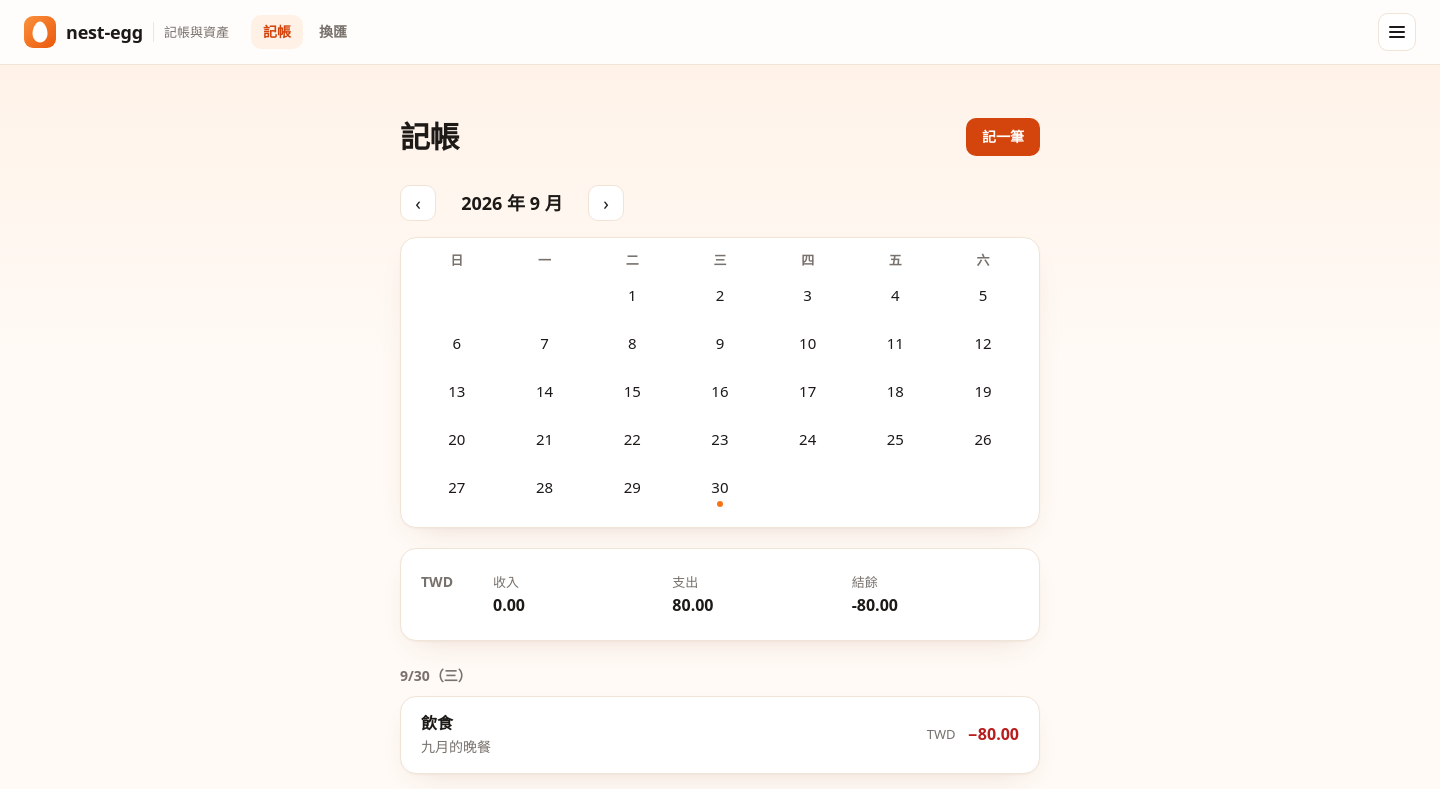
opens the month in the URL and can go forward to the current month only
expect the heading "2026 年 9 月" is shown: met, box x1=461 y1=191 x2=563 y2=215
Click the button named "下個月": (606, 203) x1=588 y1=185 x2=624 y2=221
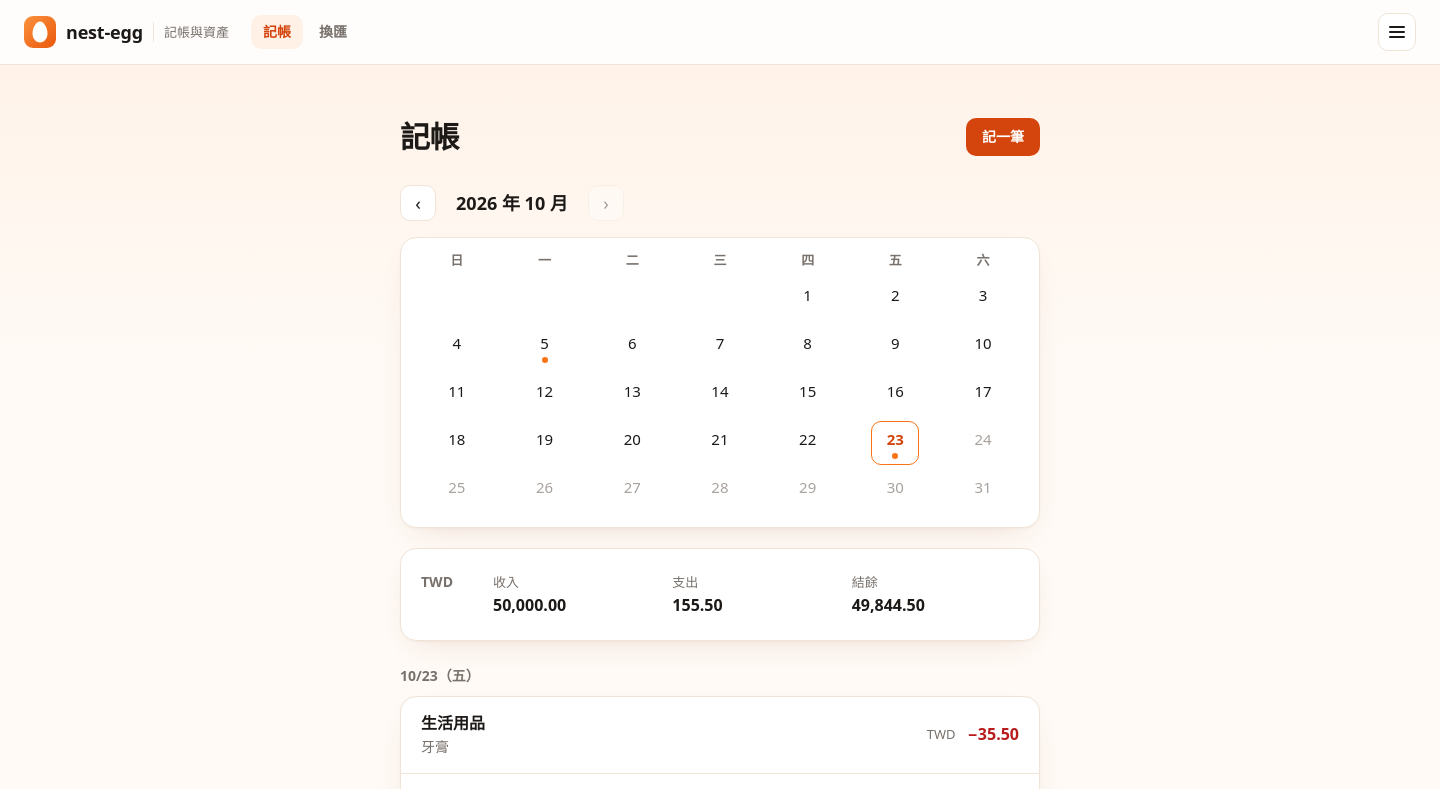
expect the heading "2026 年 10 月" is shown: met, box x1=448 y1=189 x2=576 y2=217
